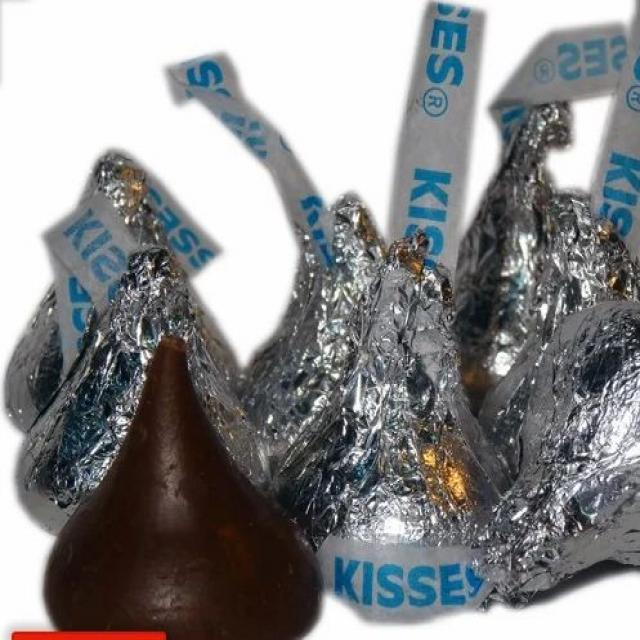kisses: (279, 256, 509, 629), (31, 226, 261, 533), (18, 147, 242, 442), (482, 114, 636, 399), (495, 326, 640, 612)
